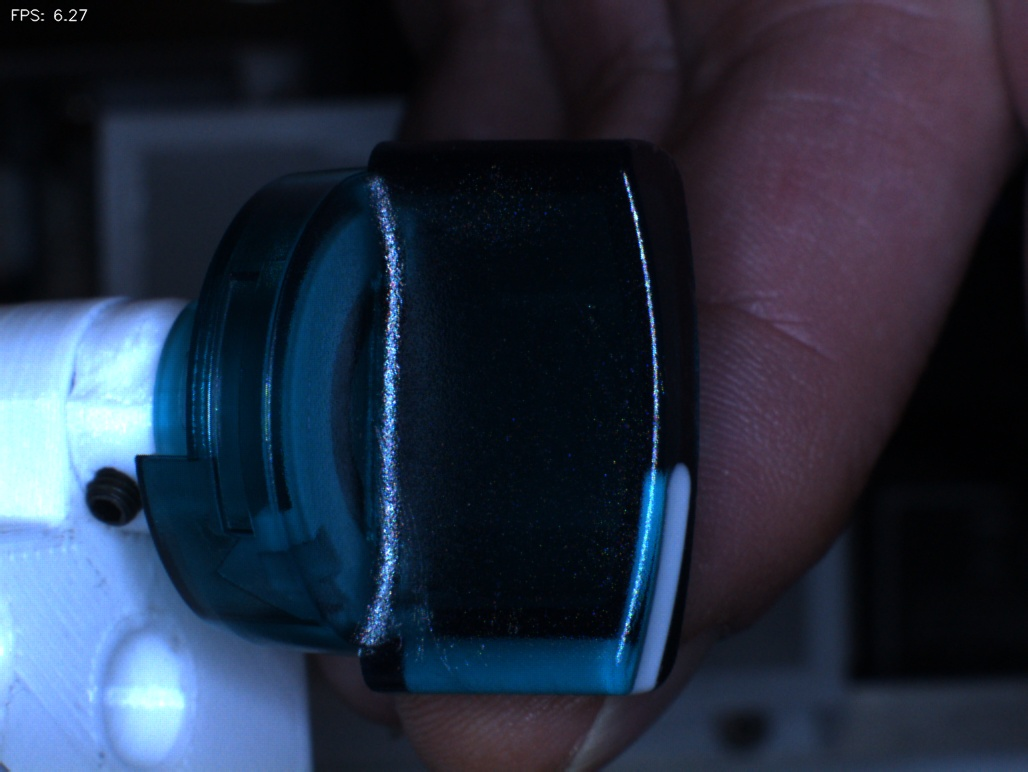Givrage: (384, 481, 455, 677)
